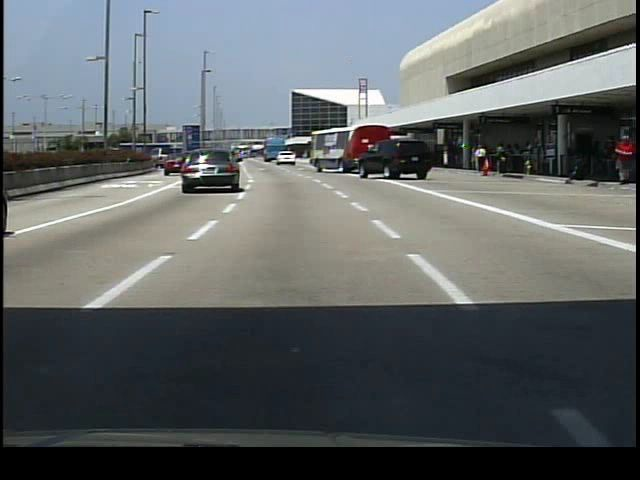person: (611, 133, 634, 184), (473, 142, 489, 178)
